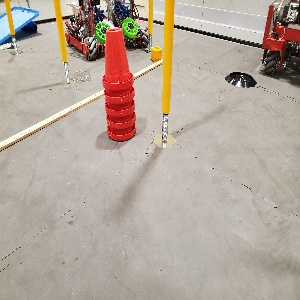Red_5: (97, 21, 139, 146)
